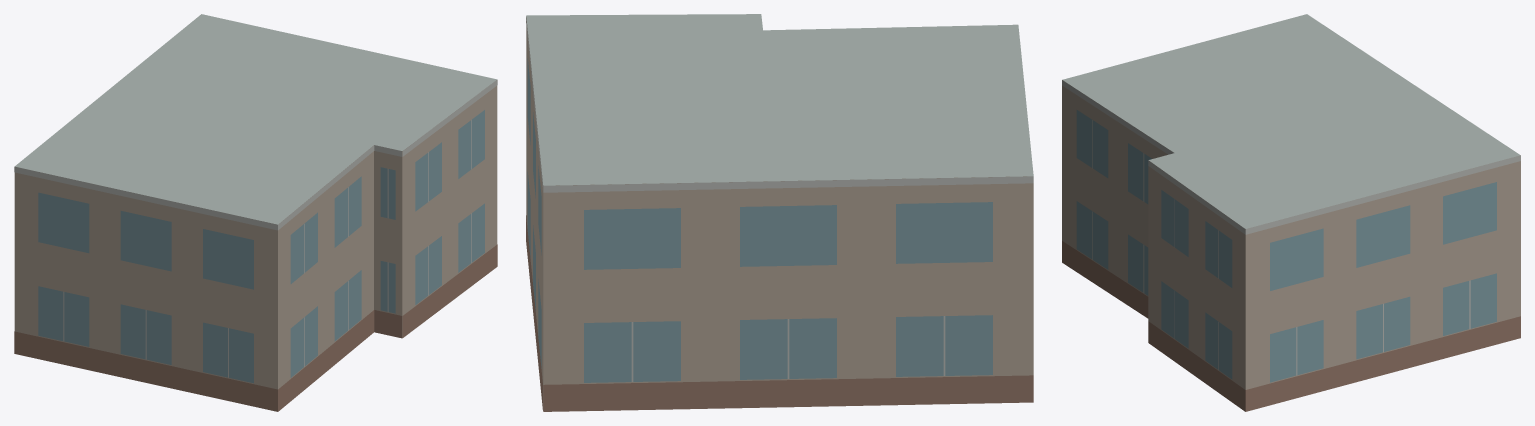
Rendered from survey-upis-32923426.glb.
The picture shows the model from 3 angles, left to right: view 1: azimuth 30°, elevation 25°; view 2: azimuth 150°, elevation 25°; view 3: azimuth 270°, elevation 25°; orthographic projection. The views are drawn at different scales.
Visible parts, largest first — view 1: survey-upis-32923426.tmp; view 2: survey-upis-32923426.tmp; view 3: survey-upis-32923426.tmp.
Part boxes in pixels (left/top/right/bottom): survey-upis-32923426.tmp: left=14, top=14, right=497, bottom=411; survey-upis-32923426.tmp: left=526, top=14, right=1033, bottom=411; survey-upis-32923426.tmp: left=1062, top=14, right=1520, bottom=411.
Bounding box in the file's own units: 19.69 × 7.8 × 17.75.
